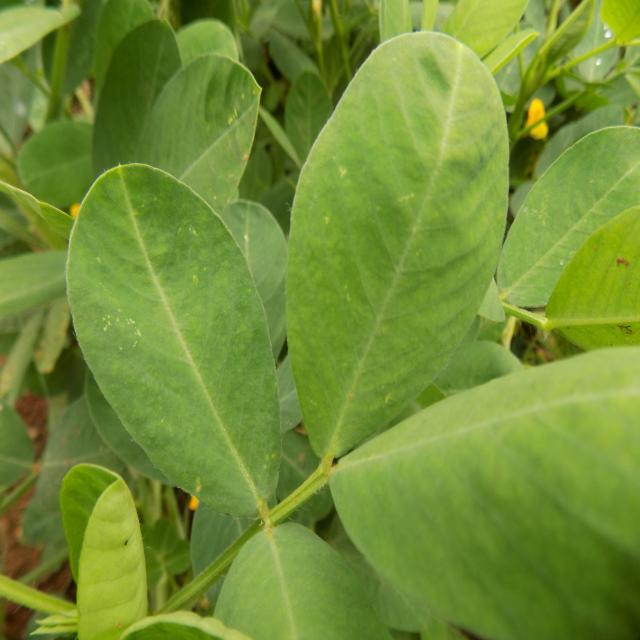Ground nut_healthy: (287, 31, 509, 449), (329, 346, 640, 638), (64, 161, 280, 520)
